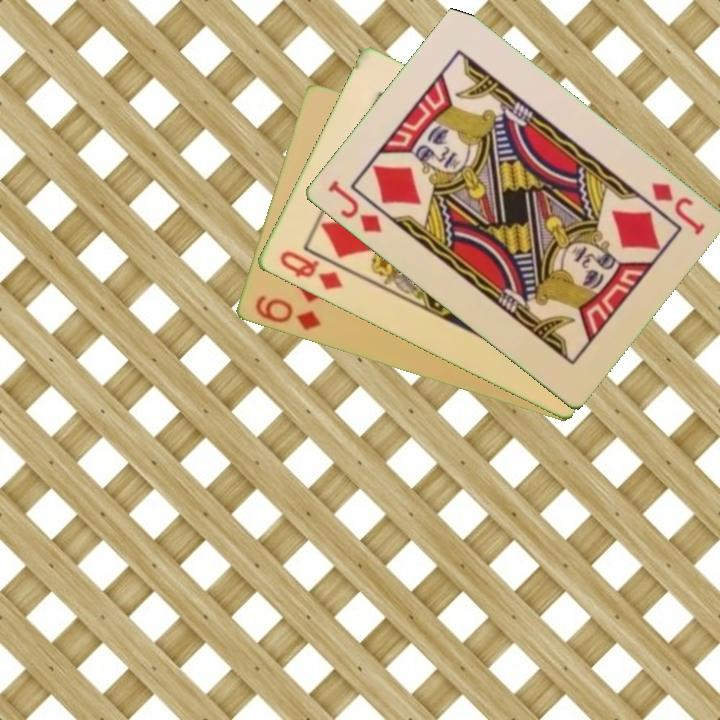6d: (251, 292, 323, 334)
Jd: (323, 176, 384, 236), (647, 179, 708, 238)
Qd: (275, 247, 345, 294)
